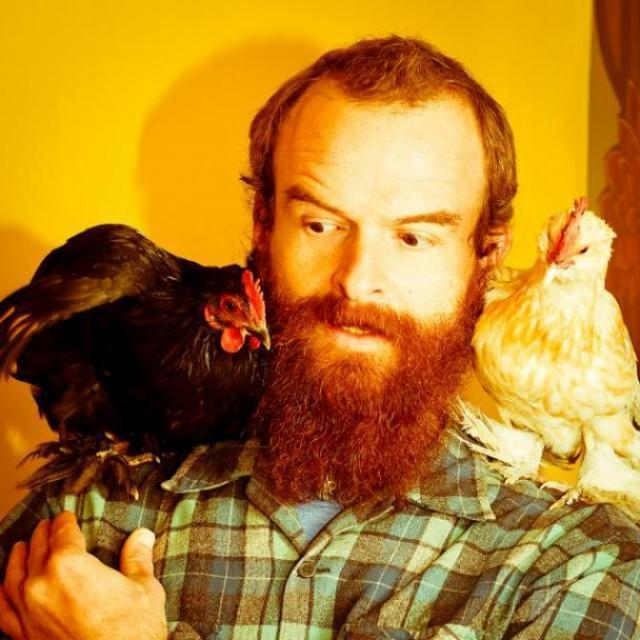Chicken: (27, 219, 278, 497), (445, 198, 640, 518)
